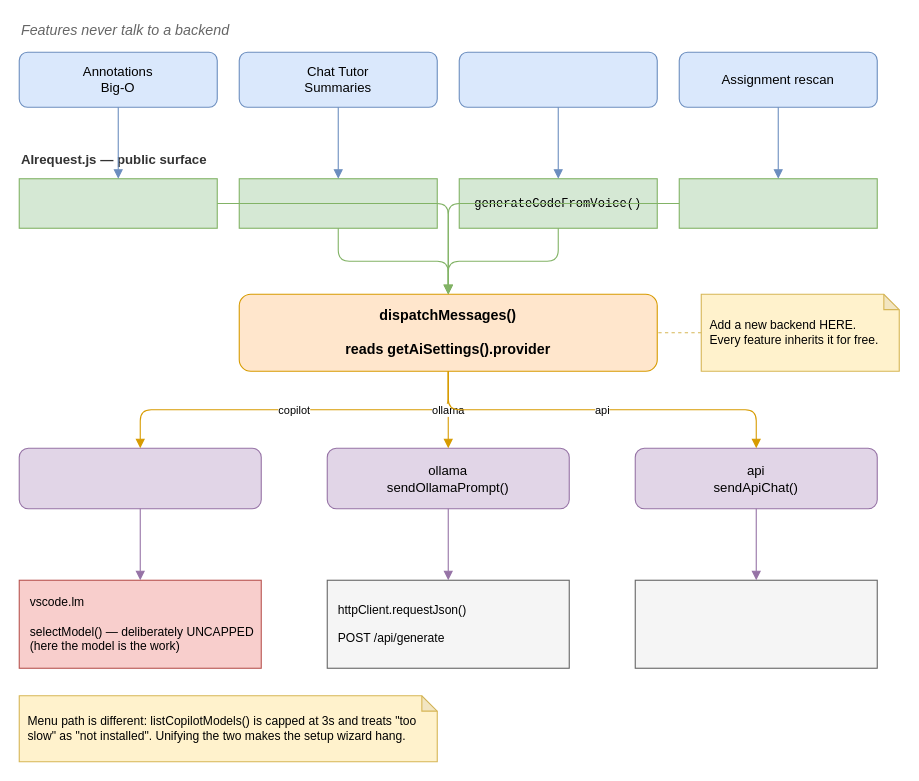
Some shapes in this 919 by 781 pixel diagram are drawn without their labels. The shapes that lost their labels are listed below. From the top down, each one's centre as x and y in pixels, then its label:
At (x=557, y=79): "Voice to Code".
At (x=117, y=203): "analyzeAI()".
At (x=337, y=203): "requestTextFromMessages()".
At (x=777, y=203): "classifyVoiceIntent()".
At (x=139, y=478): "copilot sendCopilotMessages()".
At (x=755, y=623): "httpClient.requestJson() wire: openai | anthropic key from context.secrets".
